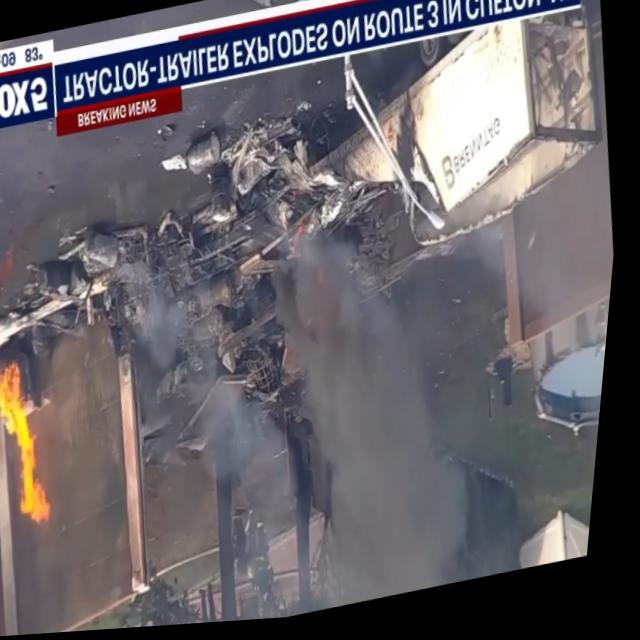Fire: (0, 347, 82, 543)
